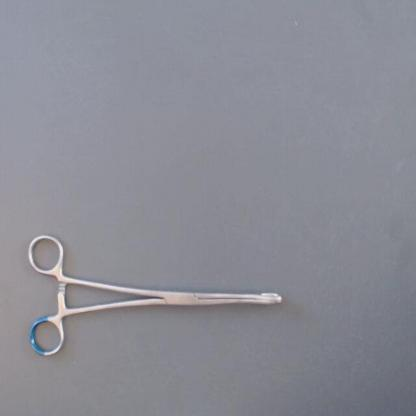Sponge Forceps: (22, 226, 296, 362)
